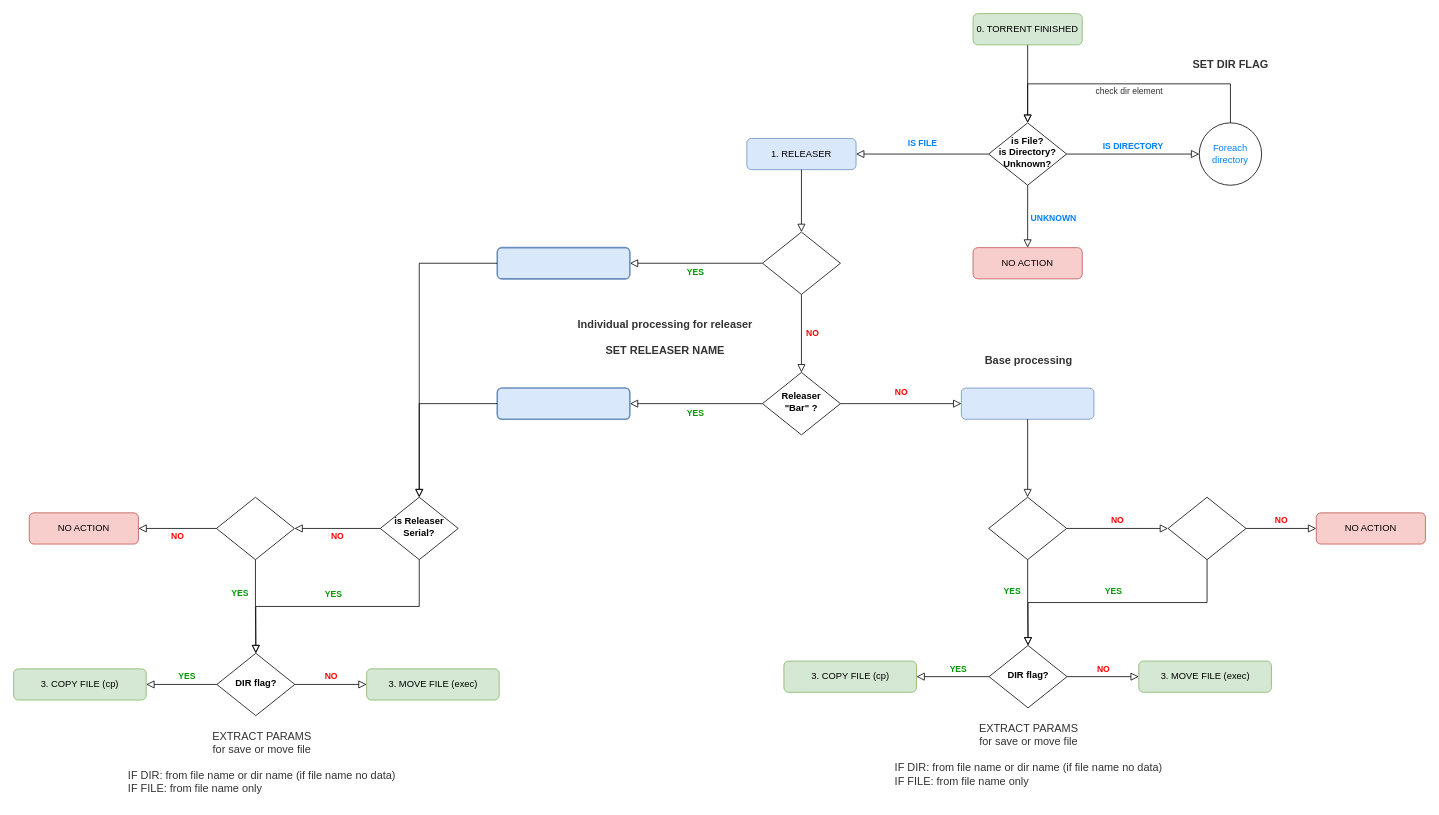
Image size: 1439x815. Some labels were removed from this diagram. The centre of each missing label's shape, as x and y in pixels:
2. SERIAL OR FILM: [1027,403]
2. SERIAL OR FILM (BAR): [563,403]
2. SERIAL OR FILM (FOO): [563,262]
is Film?: [1206,528]
is Releaser Film?: [255,528]
is Serial?: [1027,528]
Releaser "Foo" ?: [801,262]
